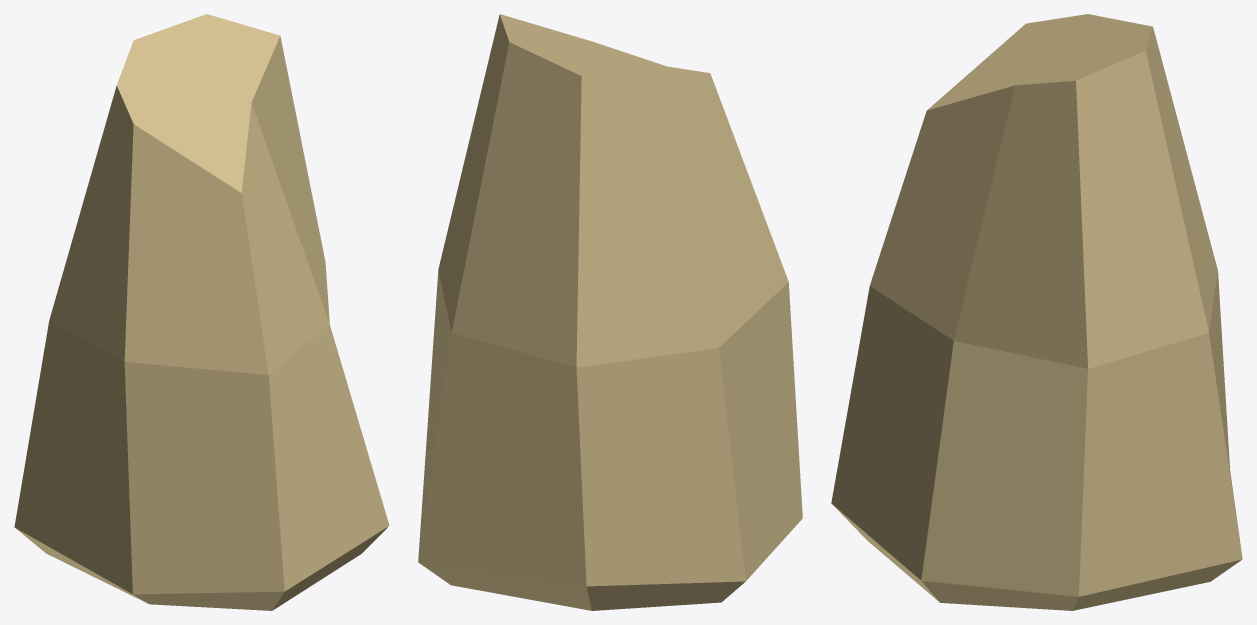
File: stone-2.fbx
3 renders of one model, left to right at view 1: azimuth 30°, elevation 25°; view 2: azimuth 150°, elevation 25°; view 3: azimuth 270°, elevation 25°, orthographic. The views are drawn at different scales.
Parts seen in each view (by area): view 1: stone-2; view 2: stone-2; view 3: stone-2.
Part boxes in pixels (x1,y1,x2,y2): stone-2: (14, 14, 389, 610); stone-2: (418, 14, 802, 610); stone-2: (831, 14, 1242, 610).
Bounding box in the file's own units: 0.5407 × 0.8223 × 0.5836.
